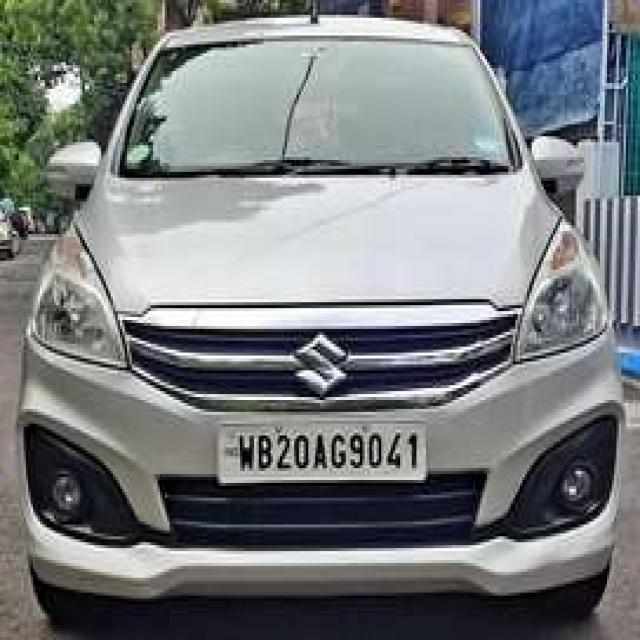Plate: (218, 422, 422, 475)
